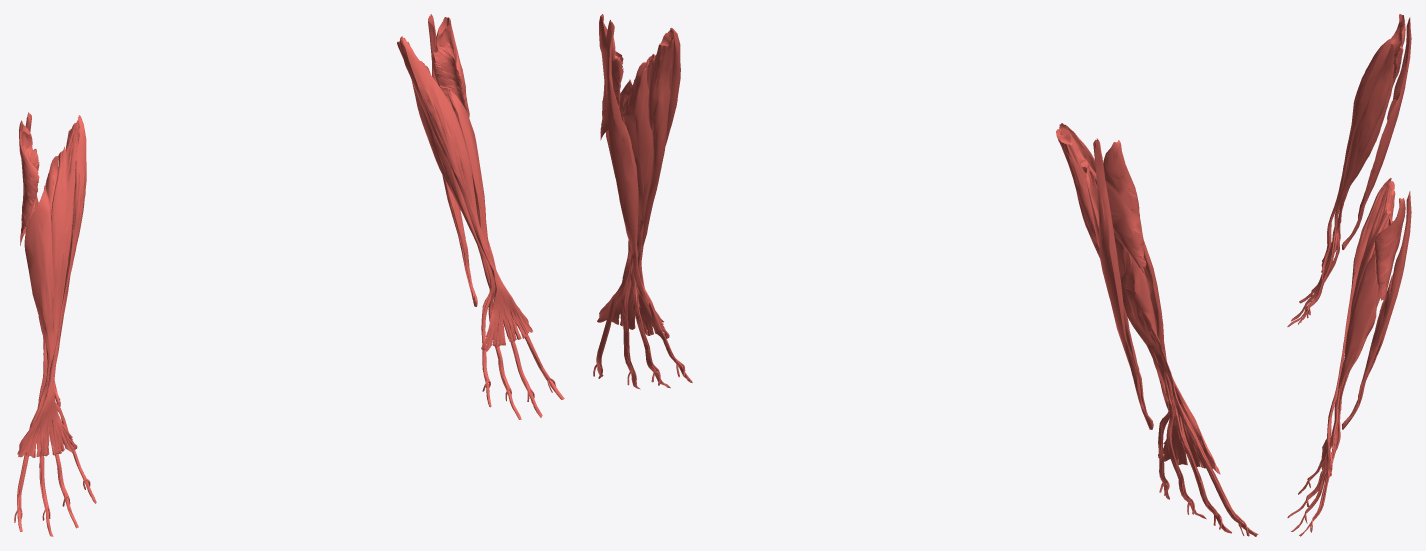
The model's file is supplement-wrist-hand-muscle.glb.
3 views of the same model, side by side, from view 1: azimuth 30°, elevation 25°; view 2: azimuth 150°, elevation 25°; view 3: azimuth 270°, elevation 25° (orthographic). The views are drawn at different scales.
Parts seen in each view (by area): view 1: wrist-hand:finger-flexors:isa:FJ1475, wrist-hand:finger-flexors:isa:FJ1475M, wrist-hand:palmaris-longus:isa:FJ1502M, wrist-hand:palmaris-longus:isa:FJ1502, wrist-hand:finger-flexors:isa:FJ1499, wrist-hand:supinator:isa:FJ1505M, wrist-hand:finger-flexors:isa:FJ1499M, wrist-hand:finger-flexors:isa:FJ1497, wrist-hand:supinator:isa:FJ1505, wrist-hand:finger-flexors:isa:FJ1497M; view 2: wrist-hand:finger-flexors:isa:FJ1497, wrist-hand:finger-flexors:isa:FJ1497M, wrist-hand:finger-flexors:isa:FJ1475M, wrist-hand:extensor-carpi-ulnaris:isa:FJ1472M, wrist-hand:extensor-carpi-ulnaris:isa:FJ1472, wrist-hand:supinator:isa:FJ1505, wrist-hand:finger-flexors:isa:FJ1475, wrist-hand:palmaris-longus:isa:FJ1502M, wrist-hand:palmaris-longus:isa:FJ1502, wrist-hand:supinator:isa:FJ1505M, wrist-hand:finger-flexors:isa:FJ1499; view 3: wrist-hand:finger-flexors:isa:FJ1475, wrist-hand:finger-flexors:isa:FJ1475M, wrist-hand:finger-flexors:isa:FJ1499M, wrist-hand:palmaris-longus:isa:FJ1502, wrist-hand:palmaris-longus:isa:FJ1502M, wrist-hand:extensor-carpi-ulnaris:isa:FJ1472, wrist-hand:supinator:isa:FJ1505M, wrist-hand:finger-flexors:isa:FJ1497, wrist-hand:finger-flexors:isa:FJ1497M, wrist-hand:extensor-carpi-ulnaris:isa:FJ1472M, wrist-hand:extensor-carpi-ulnaris:isa:FJ1517M, wrist-hand:supinator:isa:FJ1505 (+1 smaller).
Boxes of the visible parts, left/top/right/bottom form: wrist-hand:finger-flexors:isa:FJ1475: left=14, top=119, right=90, bottom=522; wrist-hand:finger-flexors:isa:FJ1475M: left=397, top=37, right=556, bottom=401; wrist-hand:palmaris-longus:isa:FJ1502M: left=399, top=36, right=533, bottom=351; wrist-hand:palmaris-longus:isa:FJ1502: left=17, top=115, right=86, bottom=457; wrist-hand:finger-flexors:isa:FJ1499: left=24, top=185, right=53, bottom=372; wrist-hand:supinator:isa:FJ1505M: left=431, top=17, right=469, bottom=117; wrist-hand:finger-flexors:isa:FJ1499M: left=445, top=87, right=489, bottom=252; wrist-hand:finger-flexors:isa:FJ1497: left=17, top=154, right=96, bottom=536; wrist-hand:supinator:isa:FJ1505: left=19, top=120, right=39, bottom=245; wrist-hand:finger-flexors:isa:FJ1497M: left=426, top=66, right=564, bottom=419; wrist-hand:finger-flexors:isa:FJ1497: left=1086, top=167, right=1258, bottom=536; wrist-hand:finger-flexors:isa:FJ1497M: left=596, top=59, right=692, bottom=389; wrist-hand:finger-flexors:isa:FJ1475M: left=593, top=29, right=685, bottom=385; wrist-hand:extensor-carpi-ulnaris:isa:FJ1472M: left=605, top=19, right=649, bottom=306; wrist-hand:extensor-carpi-ulnaris:isa:FJ1472: left=1093, top=138, right=1153, bottom=429; wrist-hand:supinator:isa:FJ1505: left=1103, top=140, right=1146, bottom=273; wrist-hand:finger-flexors:isa:FJ1475: left=1056, top=124, right=1249, bottom=536; wrist-hand:palmaris-longus:isa:FJ1502M: left=597, top=27, right=680, bottom=338; wrist-hand:palmaris-longus:isa:FJ1502: left=1059, top=123, right=1220, bottom=474; wrist-hand:supinator:isa:FJ1505M: left=599, top=14, right=623, bottom=140; wrist-hand:finger-flexors:isa:FJ1499: left=1143, top=240, right=1166, bottom=360; wrist-hand:finger-flexors:isa:FJ1475: left=1304, top=39, right=1395, bottom=318; wrist-hand:finger-flexors:isa:FJ1475M: left=1304, top=179, right=1395, bottom=532; wrist-hand:finger-flexors:isa:FJ1499M: left=1339, top=253, right=1378, bottom=401; wrist-hand:palmaris-longus:isa:FJ1502: left=1321, top=38, right=1391, bottom=281; wrist-hand:palmaris-longus:isa:FJ1502M: left=1321, top=178, right=1391, bottom=477; wrist-hand:extensor-carpi-ulnaris:isa:FJ1472: left=1341, top=17, right=1411, bottom=249; wrist-hand:supinator:isa:FJ1505M: left=1374, top=198, right=1405, bottom=304; wrist-hand:finger-flexors:isa:FJ1497: left=1287, top=64, right=1394, bottom=326; wrist-hand:finger-flexors:isa:FJ1497M: left=1287, top=215, right=1393, bottom=536; wrist-hand:extensor-carpi-ulnaris:isa:FJ1472M: left=1342, top=191, right=1411, bottom=429; wrist-hand:extensor-carpi-ulnaris:isa:FJ1517M: left=1347, top=275, right=1392, bottom=422; wrist-hand:supinator:isa:FJ1505: left=1391, top=14, right=1405, bottom=87.
Size of the model in its own units: 0.6139 by 0.3933 by 0.1372.
